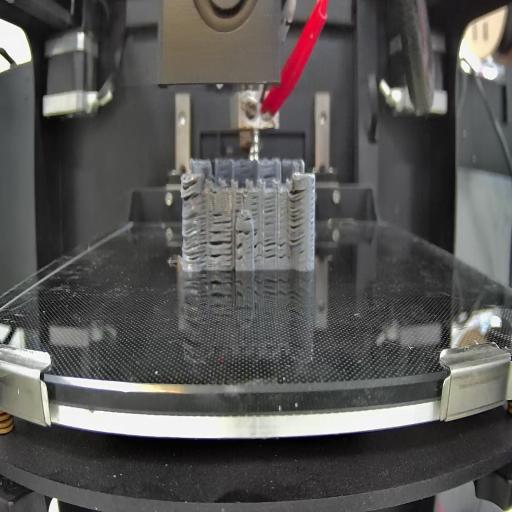cracks: (207, 212, 232, 268), (288, 188, 308, 256), (182, 211, 206, 262), (235, 227, 261, 263), (180, 181, 205, 205), (278, 236, 290, 264), (266, 197, 276, 227), (264, 238, 277, 260), (233, 194, 245, 214), (251, 197, 262, 218), (262, 172, 278, 181), (209, 188, 221, 195)
